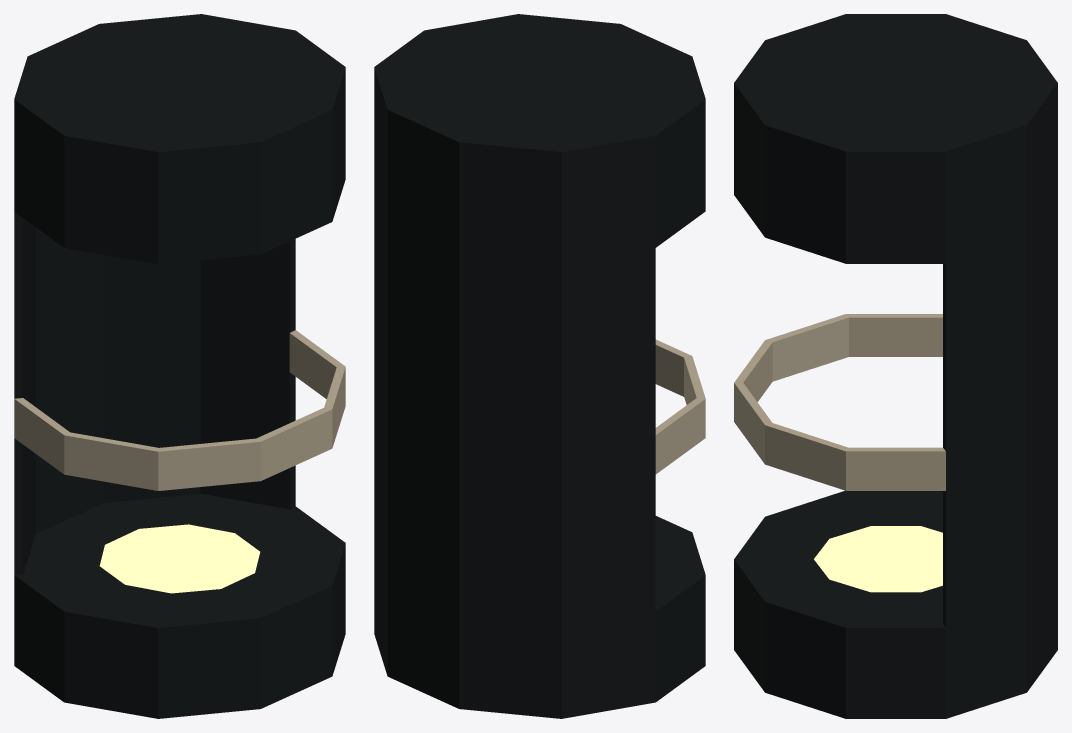
File: Teletransporte.fbx
3 views of the same model, side by side, from view 1: azimuth 30°, elevation 25°; view 2: azimuth 150°, elevation 25°; view 3: azimuth 270°, elevation 25° (orthographic).
Visible parts, largest first — view 1: Circle; view 2: Circle; view 3: Circle.
Boxes of the visible parts, bbox=[...] form: Circle: bbox=[14, 14, 345, 718]; Circle: bbox=[374, 14, 705, 718]; Circle: bbox=[734, 14, 1057, 718].
Bounding box in the file's own units: 312 × 599 × 310.
